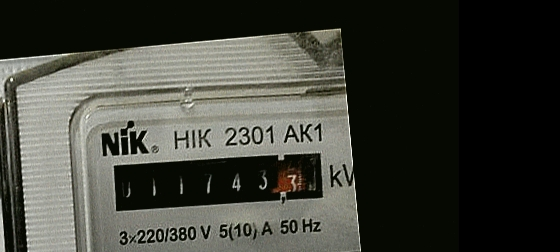0: (116, 171, 132, 199)
1: (143, 169, 159, 198), (171, 167, 186, 196)
3: (252, 164, 268, 192), (281, 171, 298, 193)
4: (226, 167, 242, 193)
7: (198, 168, 214, 194)
screen: (102, 139, 332, 223)
